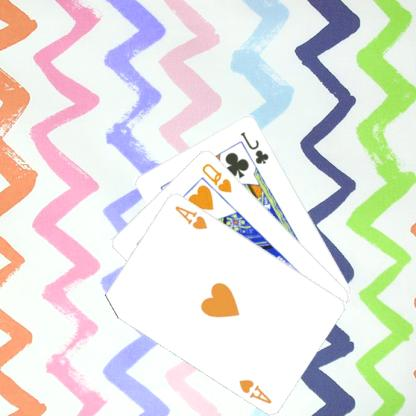AH: (237, 376, 275, 405), (174, 202, 211, 231)
JC: (240, 128, 272, 166)
QH: (201, 160, 235, 194)
